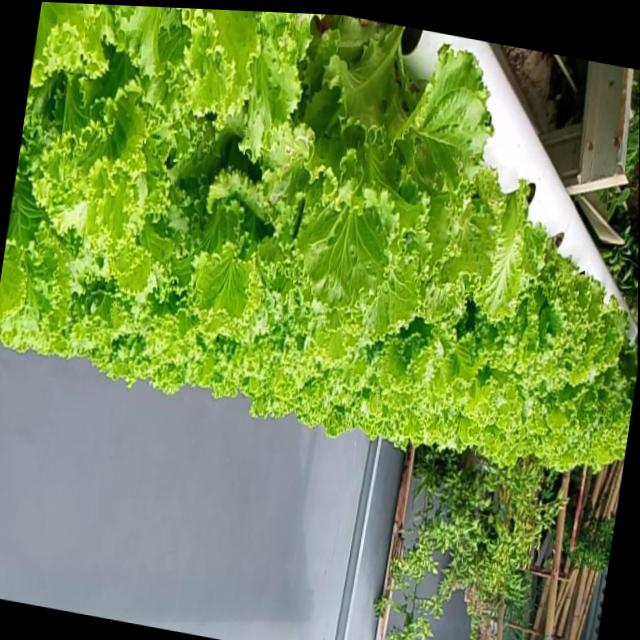Mature: (0, 2, 638, 482), (295, 48, 499, 343), (488, 222, 636, 440)
